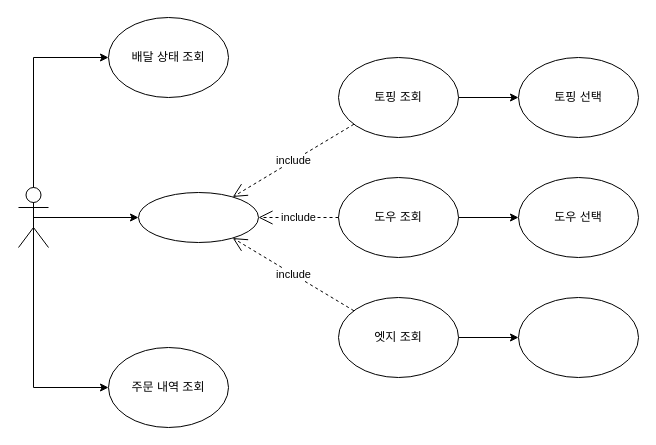
The diagram is 656 pixels wide and 445 high, and some of its shapes have lost their labels. Each missing label, with the centre of its shape:
"사용자" goes at point (33, 217).
"엣지 선택" goes at point (578, 337).
"주문" goes at point (198, 217).
